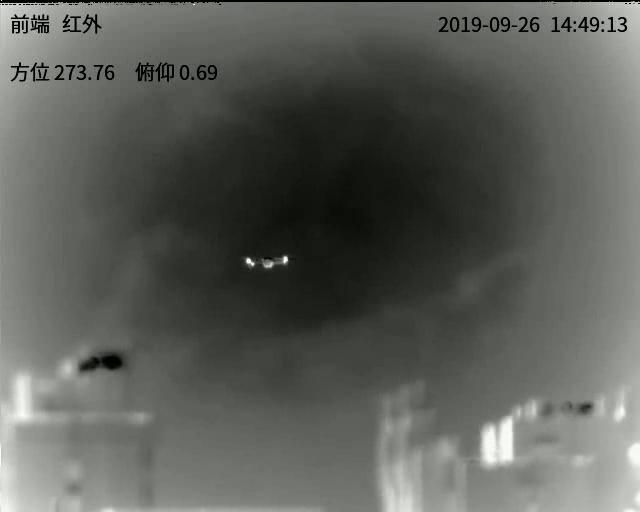DRONE: (243, 254, 290, 269)
